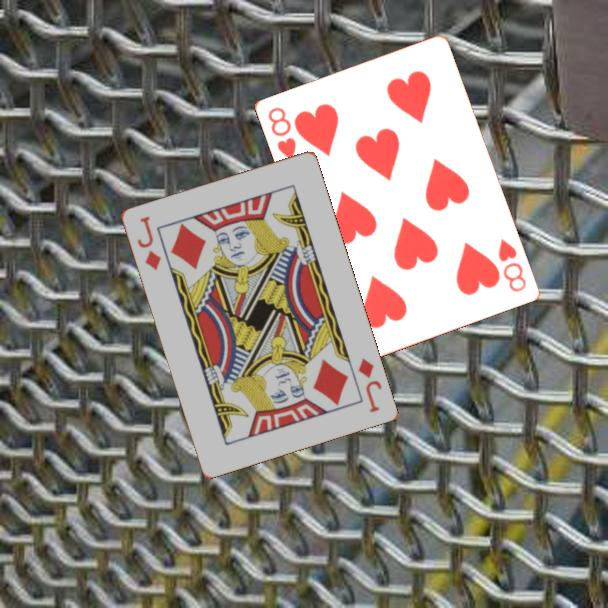d11: (133, 212, 164, 273), (354, 354, 384, 415)
h08: (495, 235, 530, 295), (265, 104, 299, 164)
